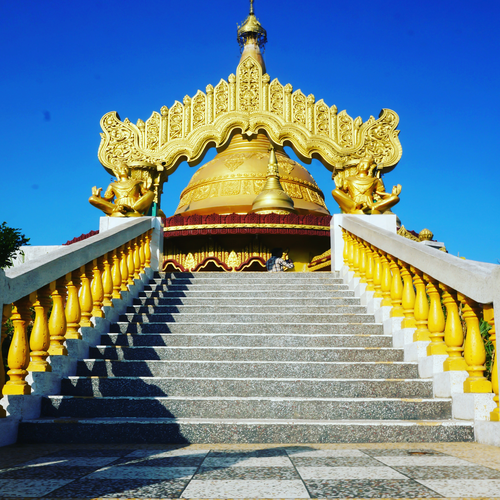Temple: (59, 8, 420, 310)
